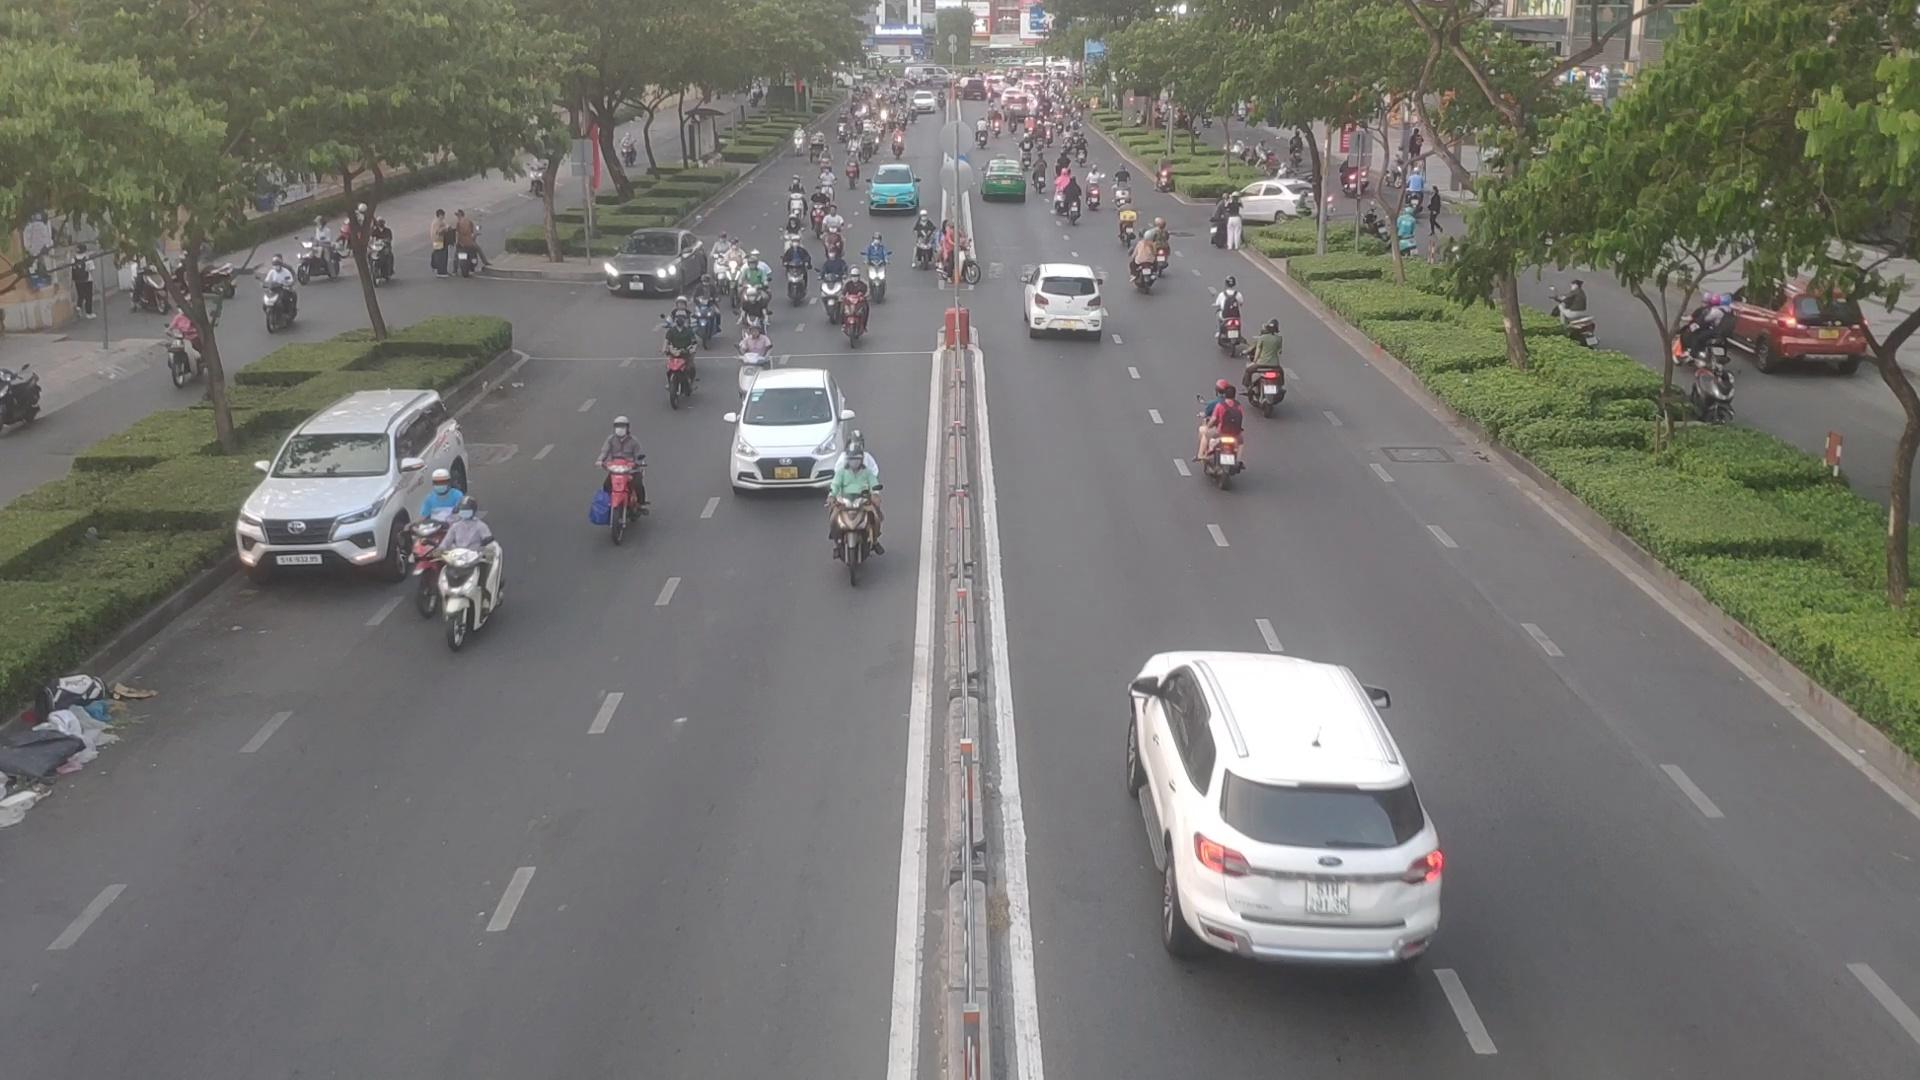car: (1129, 651, 1453, 969), (233, 389, 479, 584), (724, 369, 852, 493), (603, 232, 703, 301), (1029, 264, 1113, 342), (1234, 182, 1317, 225), (1, 361, 47, 436), (976, 154, 1030, 216), (865, 162, 923, 211)
motorbike: (415, 524, 510, 645), (582, 410, 653, 546), (1195, 382, 1257, 500), (833, 436, 881, 585), (411, 467, 460, 605), (1247, 326, 1294, 415), (662, 310, 700, 402), (1211, 272, 1246, 356), (858, 236, 902, 303), (733, 328, 771, 393), (719, 239, 749, 309), (844, 273, 872, 344), (814, 253, 843, 319), (692, 284, 723, 340), (745, 255, 771, 319), (778, 243, 806, 302), (907, 215, 935, 273), (769, 212, 803, 258), (667, 351, 696, 404), (1131, 233, 1154, 297), (1151, 215, 1174, 268), (822, 210, 851, 249), (1083, 165, 1106, 210), (783, 175, 806, 214), (1116, 210, 1135, 251), (1116, 162, 1133, 208), (708, 239, 727, 280), (811, 193, 825, 243), (1065, 179, 1083, 222), (1054, 175, 1069, 215), (814, 167, 831, 200)
